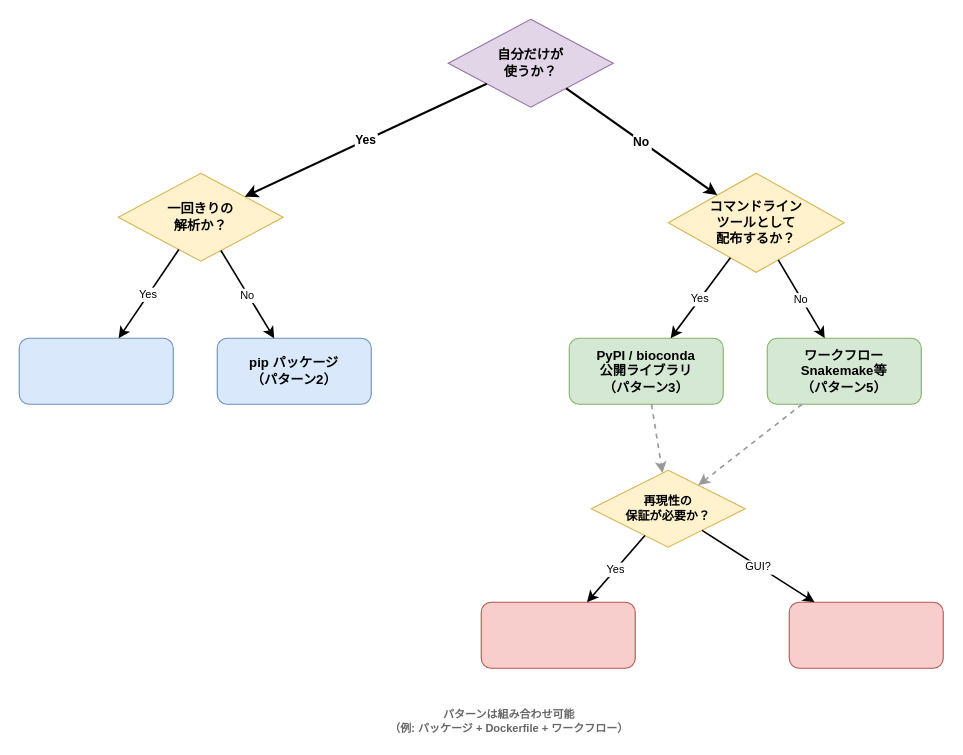
Image size: 963x755. Some labels were removed from this diagram. Here are the shapes that lost their labels. From the top down, the centre of each, then its label:
point 95,370: スタンドアロン スクリプト （パターン1）
point 557,634: Docker コンテナ （パターン6）
point 865,634: Web UI Streamlit等 （パターン7）
